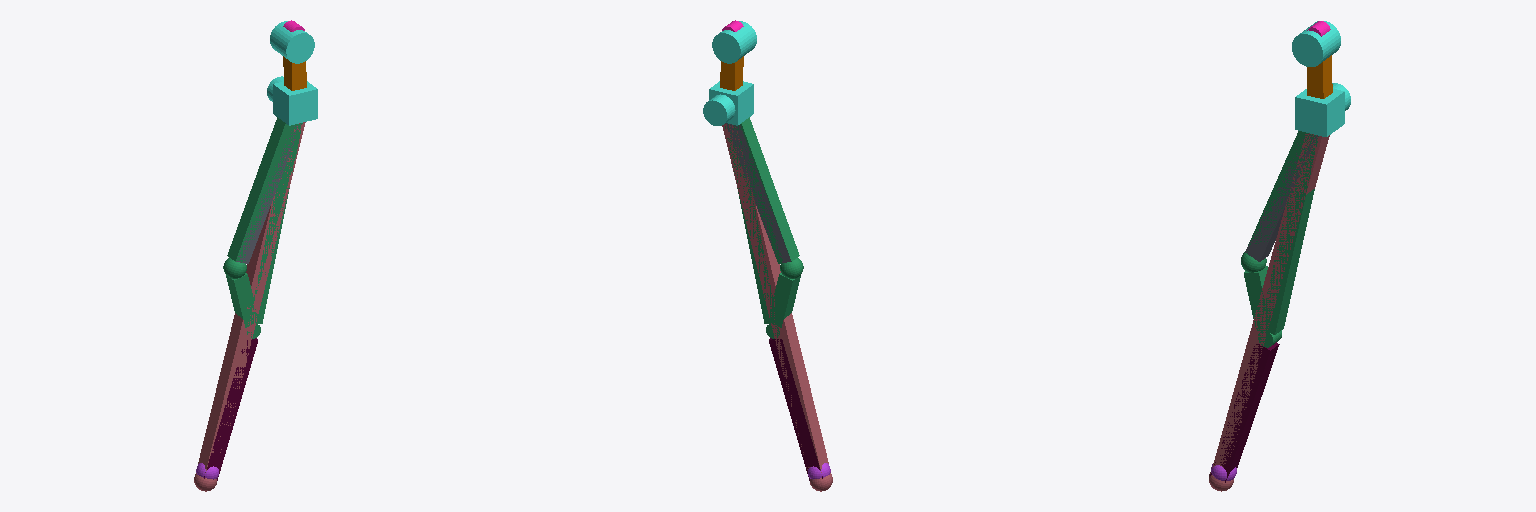
robot.urdf — Robot:
<?xml version="1.0"?>
<robot  name="Robot" >
 <link  name="L3" >
  <visual >
   <origin  xyz="1.3914840760484678e-16 0.0 0.29581099155220125"  rpy="0.0 0.0 0.0" />
   <geometry >
    <box  size="0.04 0.04 0.5516219831044025" />
   </geometry>
   <material  name="L3_Material" >
    <color  rgba="0.20610254588220522 0.6043169533753614 0.4028043359544723 1.0" />
   </material>
  </visual>
  <collision  name="L3_0_Collision" >
   <origin  xyz="1.3914840760484678e-16 0.0 0.29581099155220125"  rpy="0.0 0.0 0.0" />
   <geometry >
    <box  size="0.04 0.04 0.5516219831044025" />
   </geometry>
  </collision>
  <visual >
   <origin  xyz="0.03883769953472204 0.0 0.21584094600339168"  rpy="0.0 0.17803158814540176 0.0" />
   <geometry >
    <box  size="0.04 0.04 0.3986145500404126" />
   </geometry>
   <material  name="L3_Material" >
    <color  rgba="0.20610254588220522 0.6043169533753614 0.4028043359544723 1.0" />
   </material>
  </visual>
  <collision  name="L3_1_Collision" >
   <origin  xyz="0.03883769953472204 0.0 0.21584094600339168"  rpy="0.0 0.17803158814540176 0.0" />
   <geometry >
    <box  size="0.04 0.04 0.3986145500404126" />
   </geometry>
  </collision>
  <visual >
   <origin  xyz="0.03883769953472218 0.0 0.5116519375555929"  rpy="3.141592653589793 0.4521043447712012 3.141592653589793" />
   <geometry >
    <box  size="0.04 0.04 0.13780410670429427" />
   </geometry>
   <material  name="L3_Material" >
    <color  rgba="0.20610254588220522 0.6043169533753614 0.4028043359544723 1.0" />
   </material>
  </visual>
  <collision  name="L3_2_Collision" >
   <origin  xyz="0.03883769953472218 0.0 0.5116519375555929"  rpy="3.141592653589793 0.4521043447712012 3.141592653589793" />
   <geometry >
    <box  size="0.04 0.04 0.13780410670429427" />
   </geometry>
  </collision>
  <inertial >
   <origin  xyz="0.02589 0.0 0.3411"  rpy="0.0 0.0 0.0" />
   <mass  value="1.2407707881690364" />
   <inertia  iyy="0.019783869461385186"  ixz="-0.0007274933094848929"  ixy="-2.3822801641527197e-20"  iyz="0.0"  izz="0.0005813333521635257"  ixx="0.019533408319400092" />
  </inertial>
 </link>
 <link  name="G" >
  <visual >
   <origin  xyz="0.0 0.0 0.0"  rpy="0.0 0.0 0.0" />
   <geometry >
    <box  size="0.08 0.08 0.08" />
   </geometry>
   <material  name="G_Material" >
    <color  rgba="0.32274780165583117 0.892484097446223 0.8343419863703717 1.0" />
   </material>
  </visual>
  <collision  name="G_Collision" >
   <origin  xyz="0.0 0.0 0.0"  rpy="0.0 0.0 0.0" />
   <geometry >
    <box  size="0.08 0.08 0.08" />
   </geometry>
  </collision>
  <inertial >
   <origin  xyz="0.0 0.0 0.0"  rpy="0.0 0.0 0.0" />
   <mass  value="1.3824000000000003" />
   <inertia  iyy="0.0014745600000000004"  ixz="0.0"  ixy="0.0"  iyz="0.0"  izz="0.0014745600000000004"  ixx="0.0014745600000000004" />
  </inertial>
 </link>
 <link  name="L7" >
  <visual >
   <origin  xyz="-0.0004926879205482682 0.0 0.3844888064011286"  rpy="0.0 -0.04460565090942281 0.0" />
   <geometry >
    <box  size="0.04 0.04 -0.01790184297233707" />
   </geometry>
   <material  name="L7_Material" >
    <color  rgba="0.3820114783815056 0.055915235452914214 0.25019785862072375 1.0" />
   </material>
  </visual>
  <collision  name="L7_0_Collision" >
   <origin  xyz="-0.0004926879205482682 0.0 0.3844888064011286"  rpy="0.0 -0.04460565090942281 0.0" />
   <geometry >
    <box  size="0.04 0.04 -0.01790184297233707" />
   </geometry>
  </collision>
  <visual >
   <origin  xyz="-1.3877787807814457e-17 0.0 0.1867253590211398"  rpy="0.0 0.0 0.0" />
   <geometry >
    <box  size="0.04 0.04 0.3334507180422796" />
   </geometry>
   <material  name="L7_Material" >
    <color  rgba="0.3820114783815056 0.055915235452914214 0.25019785862072375 1.0" />
   </material>
  </visual>
  <collision  name="L7_1_Collision" >
   <origin  xyz="-1.3877787807814457e-17 0.0 0.1867253590211398"  rpy="0.0 0.0 0.0" />
   <geometry >
    <box  size="0.04 0.04 0.3334507180422796" />
   </geometry>
  </collision>
  <visual >
   <origin  xyz="-0.0004926879205482612 0.0 0.1977634473799888"  rpy="3.141592653589793 0.0024912940575292364 3.141592653589793" />
   <geometry >
    <box  size="0.04 0.04 0.35552812219110114" />
   </geometry>
   <material  name="L7_Material" >
    <color  rgba="0.3820114783815056 0.055915235452914214 0.25019785862072375 1.0" />
   </material>
  </visual>
  <collision  name="L7_2_Collision" >
   <origin  xyz="-0.0004926879205482612 0.0 0.1977634473799888"  rpy="3.141592653589793 0.0024912940575292364 3.141592653589793" />
   <geometry >
    <box  size="0.04 0.04 0.35552812219110114" />
   </geometry>
  </collision>
  <inertial >
   <origin  xyz="-0.00033 0.0 0.25633"  rpy="0.0 0.0 0.0" />
   <mass  value="0.009935711515773021" />
   <inertia  iyy="8.180299356738307e-05"  ixz="1.1356965560623961e-07"  ixy="9.396438433917875e-52"  iyz="0.0"  izz="1.3252975164634258e-06"  ixx="8.312721912179259e-05" />
  </inertial>
 </link>
 <link  name="EE" >
  <visual >
   <origin  xyz="0.0 0.0 0.0"  rpy="0.0 0.0 0.0" />
   <geometry >
    <sphere  radius="0.028571428571428574" />
   </geometry>
   <material  name="EE_Material" >
    <color  rgba="0.7426705011885874 0.322550970720654 0.8790723141332203 1.0" />
   </material>
  </visual>
  <collision  name="EE_Collision" >
   <origin  xyz="0.0 0.0 0.0"  rpy="0.0 0.0 0.0" />
   <geometry >
    <sphere  radius="0.028571428571428574" />
   </geometry>
  </collision>
  <inertial >
   <origin  xyz="0.0 0.0 0.0"  rpy="0.0 0.0 0.0" />
   <mass  value="0.2637838729544783" />
   <inertia  iyy="8.61335095361562e-05"  ixz="0.0"  ixy="0.0"  iyz="0.0"  izz="8.61335095361562e-05"  ixx="8.61335095361562e-05" />
  </inertial>
 </link>
 <link  name="L4" >
  <visual >
   <origin  xyz="0.0 0.0 0.21321"  rpy="0.0 0.0 0.0" />
   <geometry >
    <box  size="0.04 0.04 0.3864152283734407" />
   </geometry>
   <material  name="L4_Material" >
    <color  rgba="0.4237270025029357 0.4442051319963932 0.4917522898542446 1.0" />
   </material>
  </visual>
  <collision  name="L4_Collision" >
   <origin  xyz="0.0 0.0 0.21321"  rpy="0.0 0.0 0.0" />
   <geometry >
    <box  size="0.04 0.04 0.3864152283734407" />
   </geometry>
  </collision>
  <inertial >
   <origin  xyz="0.0 0.0 0.21321"  rpy="0.0 0.0 0.0" />
   <mass  value="1.6693137865732641" />
   <inertia  iyy="0.020993947989582852"  ixz="0.0"  ixy="0.0"  iyz="0.0"  izz="0.00044515034308620377"  ixx="0.020993947989582852" />
  </inertial>
 </link>
 <link  name="L5" >
  <visual >
   <origin  xyz="0.0009963725741949665 0.0 0.10133491948688406"  rpy="-3.141592653589793 -0.009832153340390004 3.141592653589793" />
   <geometry >
    <box  size="0.04 0.04 0.1626796355406224" />
   </geometry>
   <material  name="L5_Material" >
    <color  rgba="0.7821463161661596 0.4623058924893272 0.02709424789351922 1.0" />
   </material>
  </visual>
  <collision  name="L5_0_Collision" >
   <origin  xyz="0.0009963725741949665 0.0 0.10133491948688406"  rpy="-3.141592653589793 -0.009832153340390004 3.141592653589793" />
   <geometry >
    <box  size="0.04 0.04 0.1626796355406224" />
   </geometry>
  </collision>
  <visual >
   <origin  xyz="0.0009963725741952674 0.0 0.20925311848281353"  rpy="0.0 -0.1502089720722677 0.0" />
   <geometry >
    <box  size="0.04 0.04 -0.026683494842741278" />
   </geometry>
   <material  name="L5_Material" >
    <color  rgba="0.7821463161661596 0.4623058924893272 0.02709424789351922 1.0" />
   </material>
  </visual>
  <collision  name="L5_1_Collision" >
   <origin  xyz="0.0009963725741952674 0.0 0.20925311848281353"  rpy="0.0 -0.1502089720722677 0.0" />
   <geometry >
    <box  size="0.04 0.04 -0.026683494842741278" />
   </geometry>
  </collision>
  <visual >
   <origin  xyz="3.0097452308197603e-16 0.0 0.10791819899592947"  rpy="0.0 0.0 0.0" />
   <geometry >
    <box  size="0.04 0.04 0.17583639799185893" />
   </geometry>
   <material  name="L5_Material" >
    <color  rgba="0.7821463161661596 0.4623058924893272 0.02709424789351922 1.0" />
   </material>
  </visual>
  <collision  name="L5_2_Collision" >
   <origin  xyz="3.0097452308197603e-16 0.0 0.10791819899592947"  rpy="0.0 0.0 0.0" />
   <geometry >
    <box  size="0.04 0.04 0.17583639799185893" />
   </geometry>
  </collision>
  <inertial >
   <origin  xyz="0.00066 0.0 0.1395"  rpy="0.0 0.0 0.0" />
   <mass  value="0.011612887243491066" />
   <inertia  iyy="2.833599825269116e-05"  ixz="-1.2181662580065043e-07"  ixy="-2.908056841006738e-25"  iyz="1.1911400820763599e-21"  izz="1.5509471287913536e-06"  ixx="2.9881821055497436e-05" />
  </inertial>
 </link>
 <link  name="L8" >
  <visual >
   <origin  xyz="-0.0 0.0 0.01466"  rpy="0.0 0.0 0.0" />
   <geometry >
    <box  size="0.04 0.04 -0.010672172133904749" />
   </geometry>
   <material  name="L8_Material" >
    <color  rgba="0.9870472549955971 0.200249086079188 0.7260579690092612 1.0" />
   </material>
  </visual>
  <collision  name="L8_Collision" >
   <origin  xyz="-0.0 0.0 0.01466"  rpy="0.0 0.0 0.0" />
   <geometry >
    <box  size="0.04 0.04 -0.010672172133904749" />
   </geometry>
  </collision>
  <inertial >
   <origin  xyz="-0.0 0.0 0.01466"  rpy="0.0 0.0 0.0" />
   <mass  value="0.04610378361846852" />
   <inertia  iyy="-6.584754676843245e-06"  ixz="0.0"  ixy="0.0"  iyz="0.0"  izz="-1.2294342298258273e-05"  ixx="-6.584754676843245e-06" />
  </inertial>
 </link>
 <link  name="L6" >
  <visual >
   <origin  xyz="0.0 0.0 0.4805"  rpy="0.0 0.0 0.0" />
   <geometry >
    <box  size="0.04 0.04 0.9209975786435431" />
   </geometry>
   <material  name="L6_Material" >
    <color  rgba="0.7203517392549812 0.40847500972759343 0.4485260662468842 1.0" />
   </material>
  </visual>
  <collision  name="L6_Collision" >
   <origin  xyz="0.0 0.0 0.4805"  rpy="0.0 0.0 0.0" />
   <geometry >
    <box  size="0.04 0.04 0.9209975786435431" />
   </geometry>
  </collision>
  <inertial >
   <origin  xyz="0.0 0.0 0.4805"  rpy="0.0 0.0 0.0" />
   <mass  value="3.9787095397401067" />
   <inertia  iyy="0.2817710623658024"  ixz="0.0"  ixy="0.0"  iyz="0.0"  izz="0.0010609892105973618"  ixx="0.2817710623658024" />
  </inertial>
 </link>
 <joint  name="G0main"  type="revolute" >
  <parent  link="G" />
  <child  link="L3" />
  <origin  xyz="0.0 0.0 0.0"  rpy="3.141592653589793 -0.21653840469448538 3.141592653589793" />
  <axis  xyz="0 1 0" />
  <limit  effort="5.3999999999999995"  lower="-3.141592653589793"  upper="3.141592653589793"  velocity="17.907078125461823" />
  <dynamics  damping="0.05"  friction="0" />
 </joint>
 <joint  name="G0main_G_WeldActuator"  type="fixed" >
  <parent  link="G" />
  <child  link="G0main_GActuator" />
  <origin  xyz="0.0 0.05975 0.0"  rpy="-1.570796326794897 -0.21653840469448538 3.1415926535897927" />
 </joint>
 <link  name="G0main_GActuator" >
  <visual >
   <geometry >
    <cylinder  length="0.0395"  radius="0.034" />
   </geometry>
   <material  name="G0main_GActuator_Material" >
    <color  rgba="0.32274780165583117 0.892484097446223 0.8343419863703717 0.9" />
   </material>
  </visual>
  <inertial >
   <inertia  iyy="0.004339333333333334"  ixz="0.0"  ixy="0.0"  iyz="0.0"  izz="0.006256"  ixx="0.004339333333333334" />
   <mass  value="0.1" />
  </inertial>
 </link>
 <link  name="G0main_GUnit" >
  <visual >
   <geometry >
    <cylinder  length="0.08"  radius="0.04" />
   </geometry>
   <material  name="G0main_GUnit_Material" >
    <color  rgba="0.32274780165583117 0.892484097446223 0.8343419863703717 0.9" />
   </material>
  </visual>
  <inertial >
   <inertia  iyy="0.0016666666666666666"  ixz="0.0"  ixy="0.0"  iyz="0.0"  izz="0.002"  ixx="0.0016666666666666666" />
   <mass  value="0.1" />
  </inertial>
 </link>
 <joint  name="G0main_G_WeldUnit"  type="fixed" >
  <parent  link="G" />
  <child  link="G0main_GUnit" />
  <origin  xyz="0.0 0.0 0.0"  rpy="-1.570796326794897 -0.21653840469448538 3.1415926535897927" />
 </joint>
 <joint  name="J0m"  type="revolute" >
  <parent  link="L3" />
  <child  link="L7" />
  <origin  xyz="2.7829681520969356e-16 0.0 0.5916219831044025"  rpy="0.0 0.10331026215932715 0.0" />
  <axis  xyz="0 1 0" />
  <limit  effort="600.0"  lower="-3.141592653589793"  upper="3.141592653589793"  velocity="6.283185307179586" />
  <dynamics  damping="0.05"  friction="0" />
 </joint>
 <link  name="J0m_L3Unit" >
  <visual >
   <geometry >
    <cylinder  length="0.04"  radius="0.02" />
   </geometry>
   <material  name="J0m_L3Unit_Material" >
    <color  rgba="0.20610254588220522 0.6043169533753614 0.4028043359544723 0.9" />
   </material>
  </visual>
  <inertial >
   <inertia  iyy="0.0008333333333333333"  ixz="0.0"  ixy="0.0"  iyz="0.0"  izz="0.001"  ixx="0.0008333333333333333" />
   <mass  value="0.1" />
  </inertial>
 </link>
 <joint  name="J0m_L3_WeldUnit"  type="fixed" >
  <parent  link="L3" />
  <child  link="J0m_L3Unit" />
  <origin  xyz="2.7829681520969356e-16 0.0 0.5916219831044025"  rpy="1.5707963267948963 0.10331026215932715 0.0" />
 </joint>
 <joint  name="Jee"  type="revolute" >
  <parent  link="L7" />
  <child  link="EE" />
  <origin  xyz="-2.0816681711721685e-17 0.0 0.3734507180422796"  rpy="3.141592653589793 0.31984866685381275 3.141592653589793" />
  <axis  xyz="0 1 0" />
  <limit  effort="600.0"  lower="-3.141592653589793"  upper="3.141592653589793"  velocity="6.283185307179586" />
  <dynamics  damping="0.05"  friction="0" />
 </joint>
 <link  name="Jee_L7Unit" >
  <visual >
   <geometry >
    <cylinder  length="0.04"  radius="0.02" />
   </geometry>
   <material  name="Jee_L7Unit_Material" >
    <color  rgba="0.3820114783815056 0.055915235452914214 0.25019785862072375 0.9" />
   </material>
  </visual>
  <inertial >
   <inertia  iyy="0.0008333333333333333"  ixz="0.0"  ixy="0.0"  iyz="0.0"  izz="0.001"  ixx="0.0008333333333333333" />
   <mass  value="0.1" />
  </inertial>
 </link>
 <joint  name="Jee_L7_WeldUnit"  type="fixed" >
  <parent  link="L7" />
  <child  link="Jee_L7Unit" />
  <origin  xyz="-2.0816681711721685e-17 0.0 0.3734507180422796"  rpy="-1.5707963267948966 0.3198486668538125 -3.141592653589793" />
 </joint>
 <link  name="J0_0_L3Pseudo" >
  <visual >
   <geometry >
    <sphere  radius="0.028571428571428574" />
   </geometry>
   <material  name="J0_0_L3Pseudo_Material" >
    <color  rgba="0.20610254588220522 0.6043169533753614 0.4028043359544723 0.5" />
   </material>
  </visual>
  <inertial >
   <mass  value="0.05" />
   <inertia  iyy="1.6326530612244903e-05"  ixz="0.0"  ixy="0.0"  iyz="0.0"  izz="1.6326530612244903e-05"  ixx="1.6326530612244903e-05" />
  </inertial>
 </link>
 <joint  name="J0_0_L3_revolute"  type="revolute" >
  <parent  link="L3" />
  <child  link="J0_0_L3Pseudo" />
  <origin  xyz="0.07767539906944408 0.0 0.43168189200678336"  rpy="0.0 0.10331026215932715 0.0" />
  <axis  xyz="0 1 0" />
  <limit  effort="600.0"  lower="-3.141592653589793"  upper="3.141592653589793"  velocity="6.283185307179586" />
  <dynamics  damping="0.05"  friction="0" />
 </joint>
 <joint  name="J0_0_L3_Weld"  type="fixed" >
  <parent  link="L4" />
  <child  link="J0_0_L4Pseudo" />
  <origin  xyz="1.0928757898653885e-16 0.0 0.42641522837344065"  rpy="0.0 -0.08898522306949808 0.0" />
 </joint>
 <link  name="J0_0_L4Pseudo" >
  <visual >
   <geometry >
    <sphere  radius="0.028571428571428574" />
   </geometry>
   <material  name="J0_0_L4Pseudo_Material" >
    <color  rgba="0.4237270025029357 0.4442051319963932 0.4917522898542446 0.5" />
   </material>
  </visual>
  <inertial >
   <mass  value="0.05" />
   <inertia  iyy="1.6326530612244903e-05"  ixz="0.0"  ixy="0.0"  iyz="0.0"  izz="1.6326530612244903e-05"  ixx="1.6326530612244903e-05" />
  </inertial>
 </link>
 <joint  name="J1_0"  type="revolute" >
  <parent  link="L5" />
  <child  link="L4" />
  <origin  xyz="0.001992745148389933 0.0 0.2026698389737681"  rpy="0.0 0.4432982540789454 0.0" />
  <axis  xyz="0 1 0" />
  <limit  effort="600.0"  lower="-3.141592653589793"  upper="3.141592653589793"  velocity="6.283185307179586" />
  <dynamics  damping="0.05"  friction="0" />
 </joint>
 <link  name="J1_0_L5Unit" >
  <visual >
   <geometry >
    <cylinder  length="0.04"  radius="0.02" />
   </geometry>
   <material  name="J1_0_L5Unit_Material" >
    <color  rgba="0.7821463161661596 0.4623058924893272 0.02709424789351922 0.9" />
   </material>
  </visual>
  <inertial >
   <inertia  iyy="0.0008333333333333333"  ixz="0.0"  ixy="0.0"  iyz="0.0"  izz="0.001"  ixx="0.0008333333333333333" />
   <mass  value="0.1" />
  </inertial>
 </link>
 <joint  name="J1_0_L5_WeldUnit"  type="fixed" >
  <parent  link="L5" />
  <child  link="J1_0_L5Unit" />
  <origin  xyz="0.001992745148389933 0.0 0.2026698389737681"  rpy="1.5707963267948961 0.4432982540789454 -1.1102230246251565e-16" />
 </joint>
 <joint  name="J2_0"  type="revolute" >
  <parent  link="L8" />
  <child  link="L5" />
  <origin  xyz="-1.3877787807814457e-17 0.0 0.02932782786609528"  rpy="3.141592653589793 0.19201232674358581 3.141592653589793" />
  <axis  xyz="0 1 0" />
  <limit  effort="600.0"  lower="-3.141592653589793"  upper="3.141592653589793"  velocity="6.283185307179586" />
  <dynamics  damping="0.05"  friction="0" />
 </joint>
 <link  name="J2_0_L8Unit" >
  <visual >
   <geometry >
    <cylinder  length="0.04"  radius="0.02" />
   </geometry>
   <material  name="J2_0_L8Unit_Material" >
    <color  rgba="0.9870472549955971 0.200249086079188 0.7260579690092612 0.9" />
   </material>
  </visual>
  <inertial >
   <inertia  iyy="0.0008333333333333333"  ixz="0.0"  ixy="0.0"  iyz="0.0"  izz="0.001"  ixx="0.0008333333333333333" />
   <mass  value="0.1" />
  </inertial>
 </link>
 <joint  name="J2_0_L8_WeldUnit"  type="fixed" >
  <parent  link="L8" />
  <child  link="J2_0_L8Unit" />
  <origin  xyz="-1.3877787807814457e-17 0.0 0.02932782786609528"  rpy="-1.570796326794897 0.19201232674358604 3.1415926535897927" />
 </joint>
 <joint  name="J3_0"  type="revolute" >
  <parent  link="G" />
  <child  link="L8" />
  <origin  xyz="-0.008684825734778193 0.0 0.1600135128127803"  rpy="0.0 0.15754796258795123 0.0" />
  <axis  xyz="0 1 0" />
  <limit  effort="600.0"  lower="-3.141592653589793"  upper="3.141592653589793"  velocity="6.283185307179586" />
  <dynamics  damping="0.05"  friction="0" />
 </joint>
 <link  name="J3_0_GUnit" >
  <visual >
   <geometry >
    <cylinder  length="0.08"  radius="0.04" />
   </geometry>
   <material  name="J3_0_GUnit_Material" >
    <color  rgba="0.32274780165583117 0.892484097446223 0.8343419863703717 0.9" />
   </material>
  </visual>
  <inertial >
   <inertia  iyy="0.0016666666666666666"  ixz="0.0"  ixy="0.0"  iyz="0.0"  izz="0.002"  ixx="0.0016666666666666666" />
   <mass  value="0.1" />
  </inertial>
 </link>
 <joint  name="J3_0_G_WeldUnit"  type="fixed" >
  <parent  link="G" />
  <child  link="J3_0_GUnit" />
  <origin  xyz="-0.008684825734778193 0.0 0.1600135128127803"  rpy="1.5707963267948963 0.15754796258795145 0.0" />
 </joint>
 <joint  name="J4_1_0"  type="revolute" >
  <parent  link="L5" />
  <child  link="L6" />
  <origin  xyz="6.019490461639521e-16 0.0 0.21583639799185894"  rpy="0.0 0.30183402307244944 0.0" />
  <axis  xyz="0 1 0" />
  <limit  effort="600.0"  lower="-3.141592653589793"  upper="3.141592653589793"  velocity="6.283185307179586" />
  <dynamics  damping="0.05"  friction="0" />
 </joint>
 <link  name="J4_1_0_L5Unit" >
  <visual >
   <geometry >
    <cylinder  length="0.04"  radius="0.02" />
   </geometry>
   <material  name="J4_1_0_L5Unit_Material" >
    <color  rgba="0.7821463161661596 0.4623058924893272 0.02709424789351922 0.9" />
   </material>
  </visual>
  <inertial >
   <inertia  iyy="0.0008333333333333333"  ixz="0.0"  ixy="0.0"  iyz="0.0"  izz="0.001"  ixx="0.0008333333333333333" />
   <mass  value="0.1" />
  </inertial>
 </link>
 <joint  name="J4_1_0_L5_WeldUnit"  type="fixed" >
  <parent  link="L5" />
  <child  link="J4_1_0_L5Unit" />
  <origin  xyz="6.019490461639521e-16 0.0 0.21583639799185894"  rpy="1.5707963267948961 0.30183402307244944 1.1102230246251565e-16" />
 </joint>
 <link  name="J5_1_0_L6Pseudo" >
  <visual >
   <geometry >
    <sphere  radius="0.028571428571428574" />
   </geometry>
   <material  name="J5_1_0_L6Pseudo_Material" >
    <color  rgba="0.7203517392549812 0.40847500972759343 0.4485260662468842 0.5" />
   </material>
  </visual>
  <inertial >
   <mass  value="0.05" />
   <inertia  iyy="1.6326530612244903e-05"  ixz="0.0"  ixy="0.0"  iyz="0.0"  izz="1.6326530612244903e-05"  ixx="1.6326530612244903e-05" />
  </inertial>
 </link>
 <joint  name="J5_1_0_L6_revolute"  type="revolute" >
  <parent  link="L6" />
  <child  link="J5_1_0_L6Pseudo" />
  <origin  xyz="3.9898639947466563e-17 0.0 0.9609975786435432"  rpy="0.0 0.0 0.0" />
  <axis  xyz="0 1 0" />
  <limit  effort="600.0"  lower="-3.141592653589793"  upper="3.141592653589793"  velocity="6.283185307179586" />
  <dynamics  damping="0.05"  friction="0" />
 </joint>
 <joint  name="J5_1_0_L6_Weld"  type="fixed" >
  <parent  link="L7" />
  <child  link="J5_1_0_L7Pseudo" />
  <origin  xyz="-0.0009853758410965155 0.0 0.3955268947599777"  rpy="0.0 -0.05247900793699767 0.0" />
 </joint>
 <link  name="J5_1_0_L7Pseudo" >
  <visual >
   <geometry >
    <sphere  radius="0.028571428571428574" />
   </geometry>
   <material  name="J5_1_0_L7Pseudo_Material" >
    <color  rgba="0.3820114783815056 0.055915235452914214 0.25019785862072375 0.5" />
   </material>
  </visual>
  <inertial >
   <mass  value="0.05" />
   <inertia  iyy="1.6326530612244903e-05"  ixz="0.0"  ixy="0.0"  iyz="0.0"  izz="1.6326530612244903e-05"  ixx="1.6326530612244903e-05" />
  </inertial>
 </link>
</robot>

--- What the picture shows (computed from the rendered views, not written in the file) ---
3 views of the same robot in one strip: view 1: azimuth 30°, elevation 25°; view 2: azimuth 150°, elevation 25°; view 3: azimuth 330°, elevation 25° (orthographic).
Robot: Robot — 20 links, 19 joints (9 revolute, 10 fixed); root link G; default pose: all joints at 0.
Links seen in each view (by area): view 1: L3, L6, L7, G, J3_0_GUnit, L4, L5; view 2: L6, L3, L7, L4, J3_0_GUnit, G, G0main_GActuator, L5; view 3: L3, L6, L7, L4, J3_0_GUnit, G, L5, G0main_GUnit.
Boxes of the visible links, bbox=[...] form: L3: bbox=[226, 117, 302, 327]; L6: bbox=[198, 122, 305, 472]; L7: bbox=[204, 338, 257, 480]; G: bbox=[273, 81, 317, 125]; J3_0_GUnit: bbox=[270, 21, 314, 63]; L4: bbox=[236, 124, 300, 263]; L5: bbox=[283, 56, 306, 90]; L6: bbox=[722, 124, 828, 472]; L3: bbox=[725, 117, 800, 327]; L7: bbox=[769, 338, 822, 480]; L4: bbox=[725, 123, 790, 262]; J3_0_GUnit: bbox=[712, 21, 756, 63]; G: bbox=[709, 81, 753, 125]; G0main_GActuator: bbox=[703, 94, 735, 125]; L5: bbox=[720, 56, 743, 90]; L3: bbox=[1244, 131, 1318, 334]; L6: bbox=[1212, 133, 1329, 467]; L7: bbox=[1210, 342, 1279, 482]; L4: bbox=[1245, 134, 1317, 261]; J3_0_GUnit: bbox=[1292, 21, 1340, 66]; G: bbox=[1295, 89, 1344, 136]; L5: bbox=[1307, 55, 1332, 98]; G0main_GUnit: bbox=[1295, 100, 1326, 133].
Bounding box of the posed robot: 0.319 × 0.1195 × 1.19 m (x, y, z).
Geometry: primitives only (box / cylinder / sphere), no mesh files.